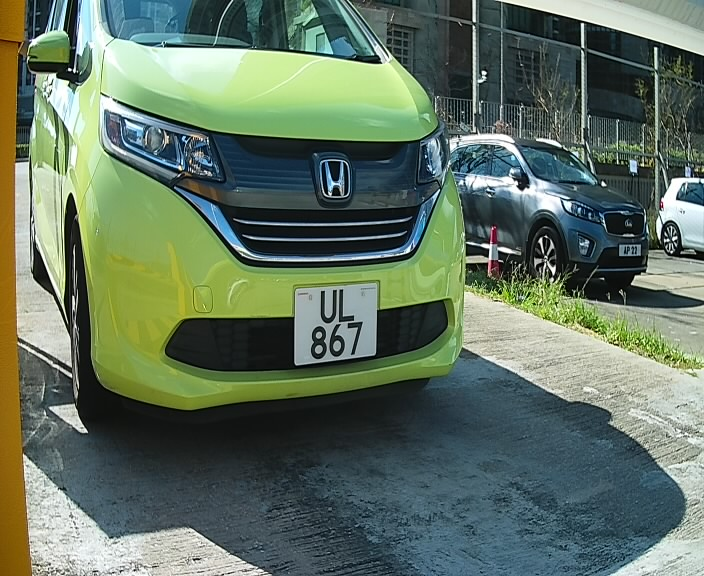Car: (22, 2, 473, 440)
License Plate: (288, 276, 389, 376)
